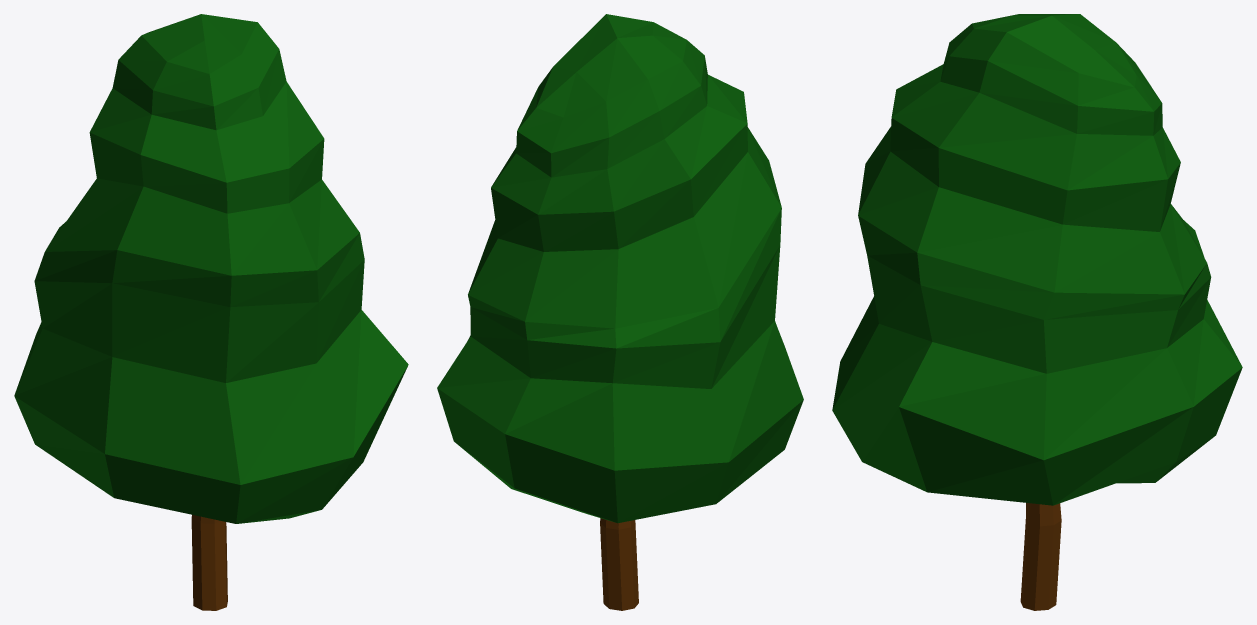
File: Mature-Tree.obj
3 renders of one model, left to right at view 1: azimuth 30°, elevation 25°; view 2: azimuth 150°, elevation 25°; view 3: azimuth 270°, elevation 25°, orthographic. The views are drawn at different scales.
Visible parts, largest first — view 1: Ash.039; view 2: Ash.039; view 3: Ash.039.
Part boxes in pixels (x1,y1,x2,y2): Ash.039: [14, 14, 408, 610]; Ash.039: [437, 14, 803, 610]; Ash.039: [832, 14, 1242, 610].
Size of the model in its own units: 7.28 by 12.98 by 8.23.
